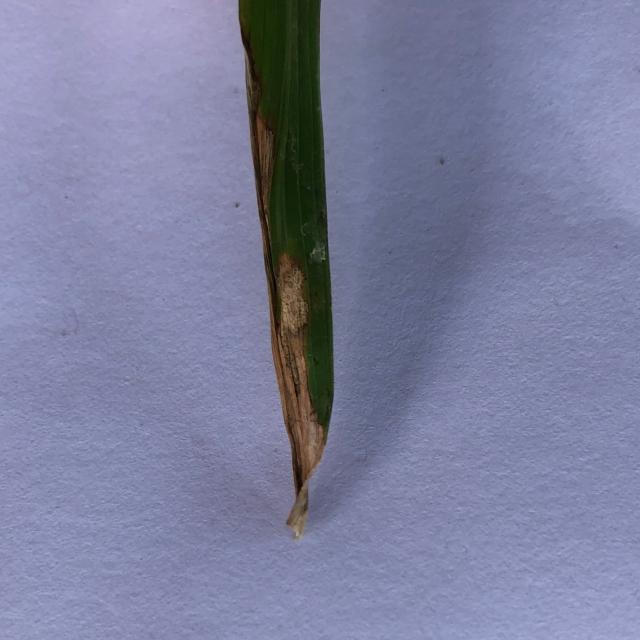Leaf Blight: (240, 25, 326, 538)
